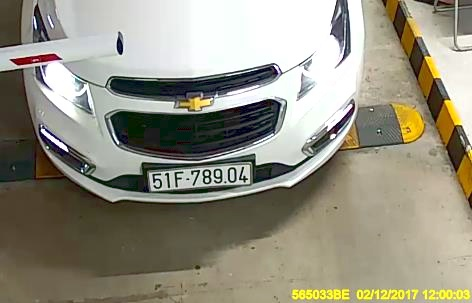plate: (145, 160, 255, 190)
